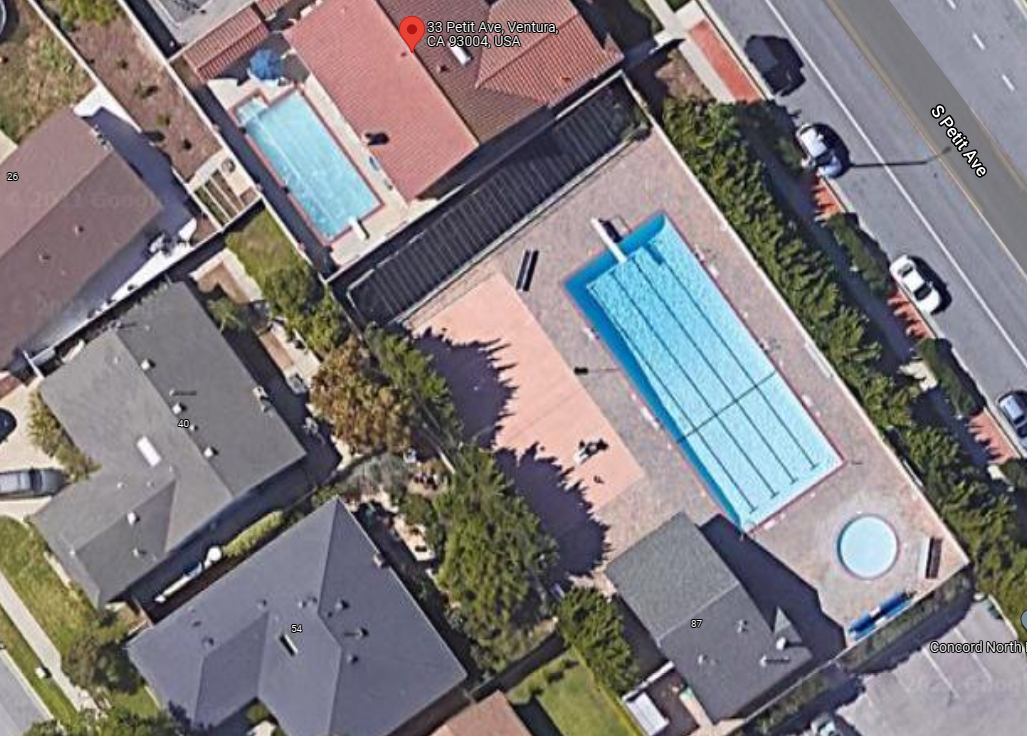poolww: (553, 214, 864, 546), (209, 80, 390, 256)
